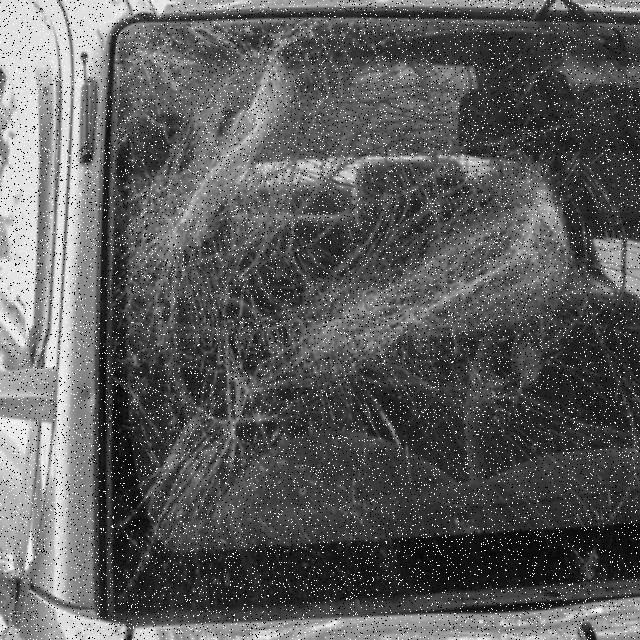Front-windscreen-damage: (89, 20, 640, 638)
